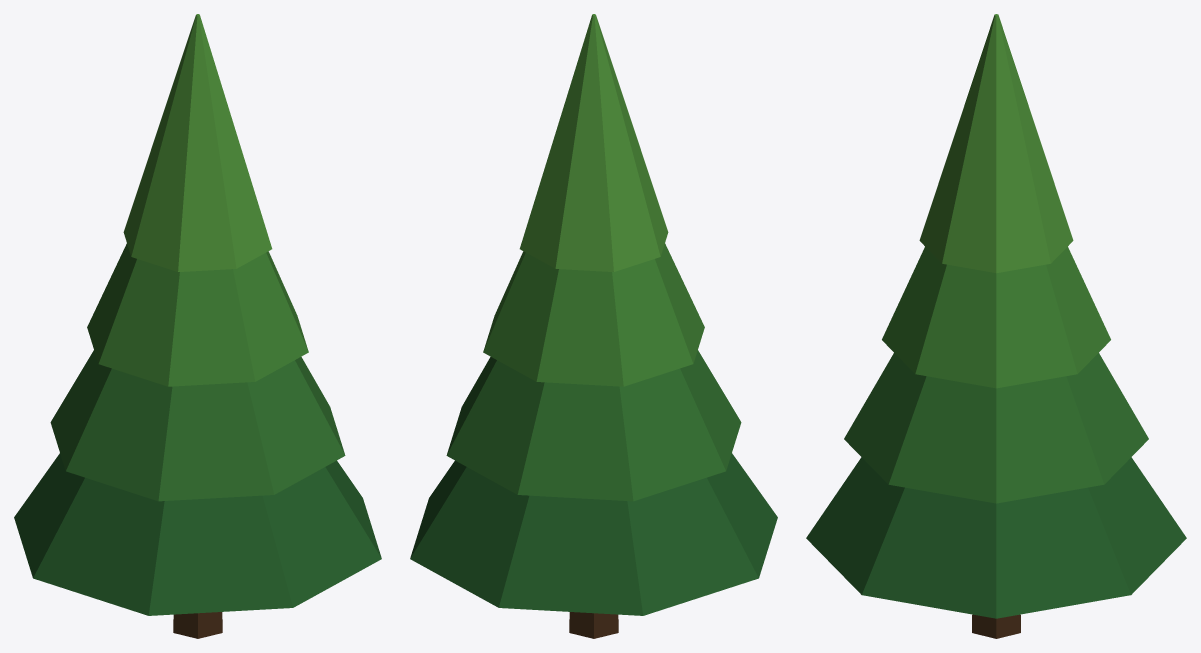
File: pine.glb
The picture shows the model from 3 angles, left to right: view 1: azimuth 30°, elevation 25°; view 2: azimuth 150°, elevation 25°; view 3: azimuth 270°, elevation 25°; orthographic projection.
Visible parts, largest first — view 1: pine; view 2: pine; view 3: pine.
Boxes of the visible parts, x1,y1,x2,y2 form: pine: (14,14,381,638); pine: (410,14,777,638); pine: (806,14,1186,638).
Bounding box in the file's own units: 5.64 × 10 × 5.64.
